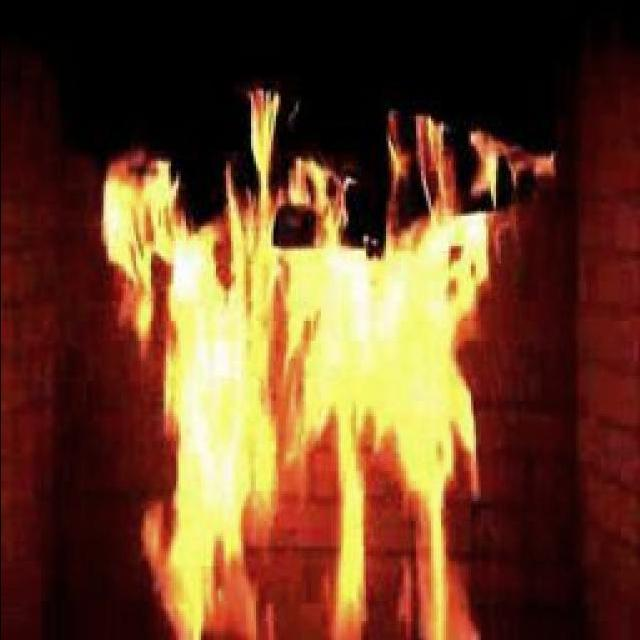Fire: (140, 140, 456, 581)
